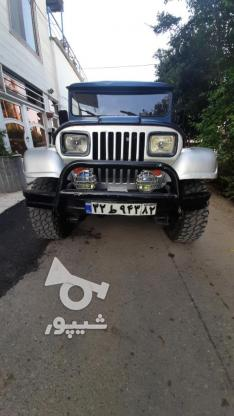car: (85, 201, 158, 217)
